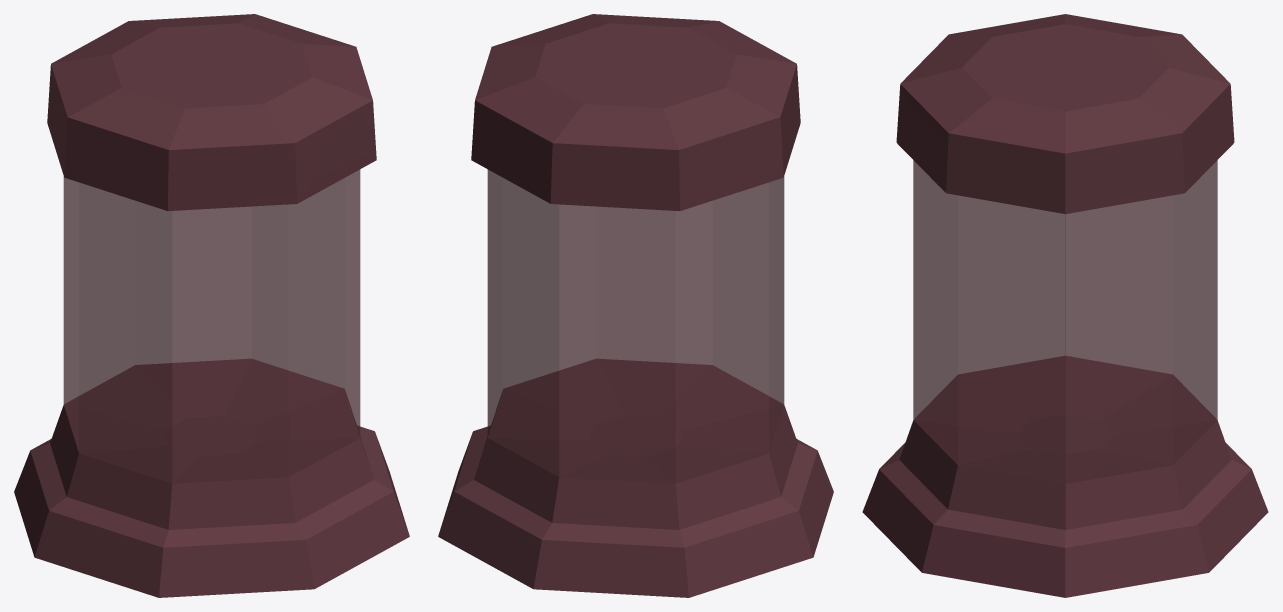
File: scifi-tube-specimen-small-empty.fbx
The picture shows the model from 3 angles, left to right: view 1: azimuth 30°, elevation 25°; view 2: azimuth 150°, elevation 25°; view 3: azimuth 270°, elevation 25°; orthographic projection.
Visible parts, largest first — view 1: scifi-tube-specimen-small-empty; view 2: scifi-tube-specimen-small-empty; view 3: scifi-tube-specimen-small-empty.
Boxes of the visible parts, x1,y1,x2,y2 form: scifi-tube-specimen-small-empty: (14,14,409,597); scifi-tube-specimen-small-empty: (438,14,833,597); scifi-tube-specimen-small-empty: (862,14,1268,597).
Bounding box in the file's own units: 0.4517 × 0.5452 × 0.4517.
